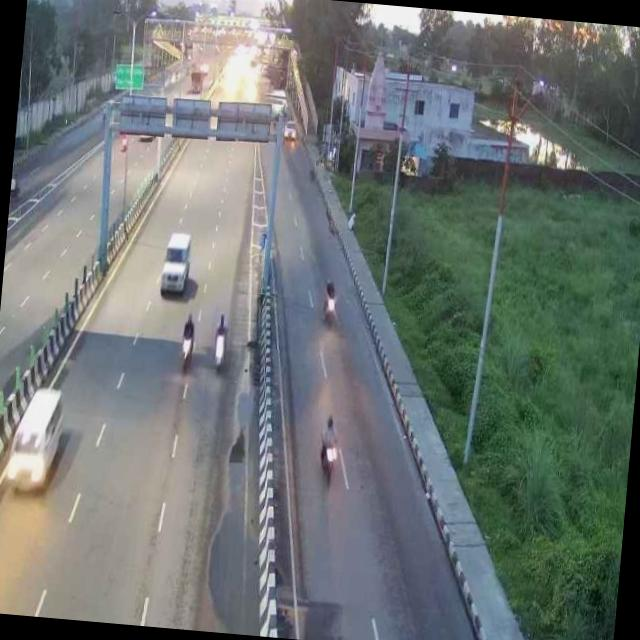car: (0, 380, 73, 496), (152, 226, 198, 296)
